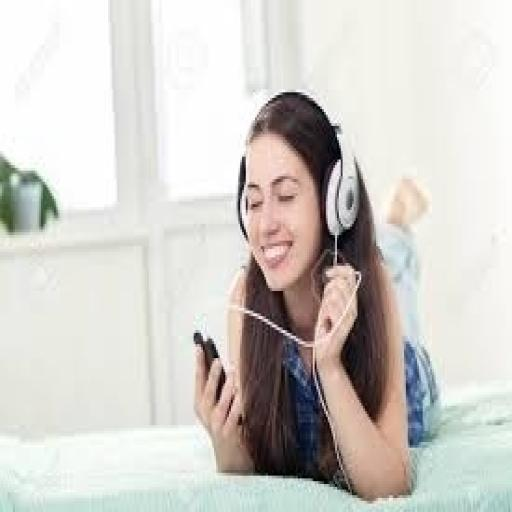listening_to_music: (190, 86, 417, 504)
